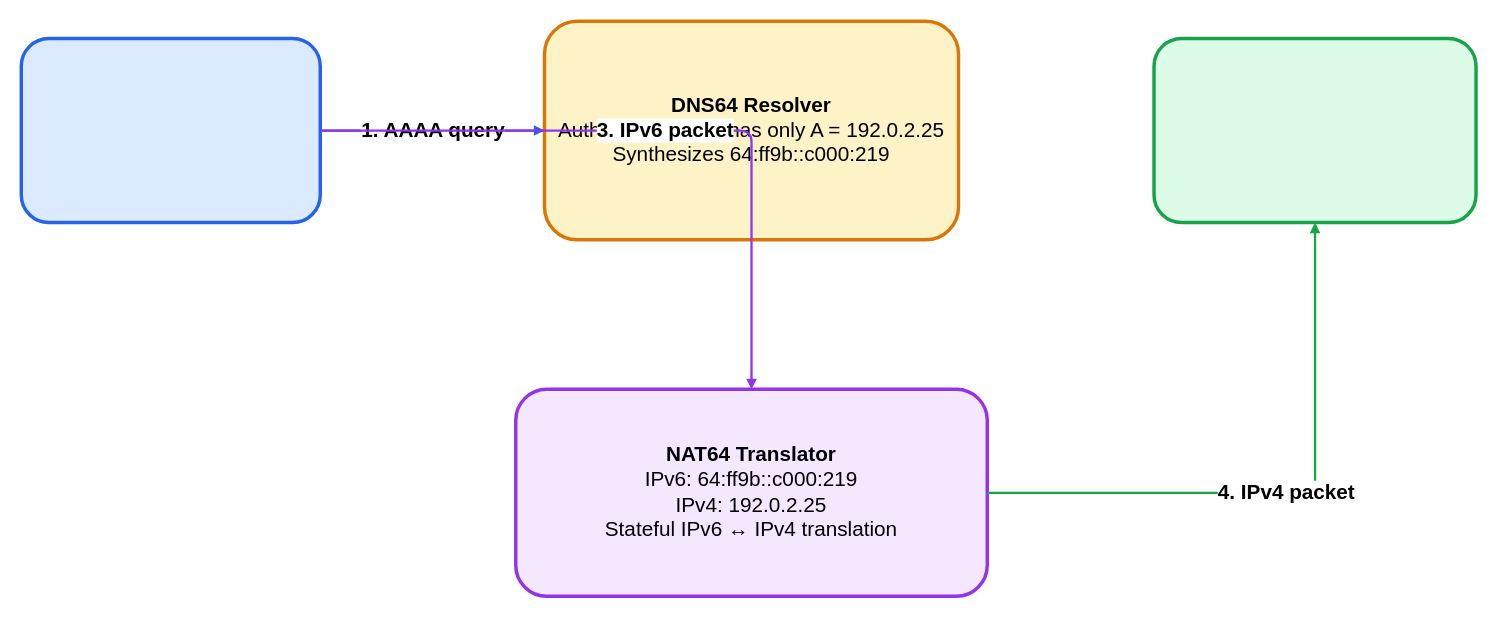
This 1497x618 diagram has some shape labels left out. Here are the shapes that lost their labels. From the top down, the box of each, then its label:
(19, 36, 321, 224): IPv6-only Client 2001:db8:10::100 AAAA query
(1152, 36, 1477, 224): IPv4-only Server 192.0.2.25 No IPv6 address
